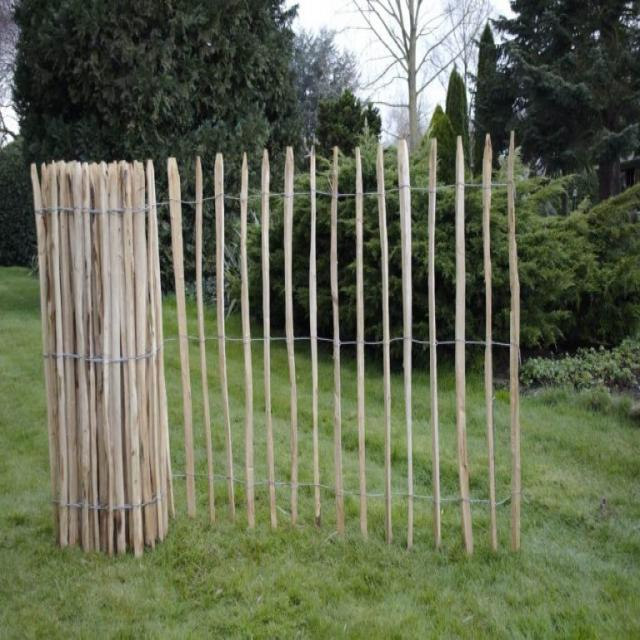fence line: (171, 165, 531, 556)
